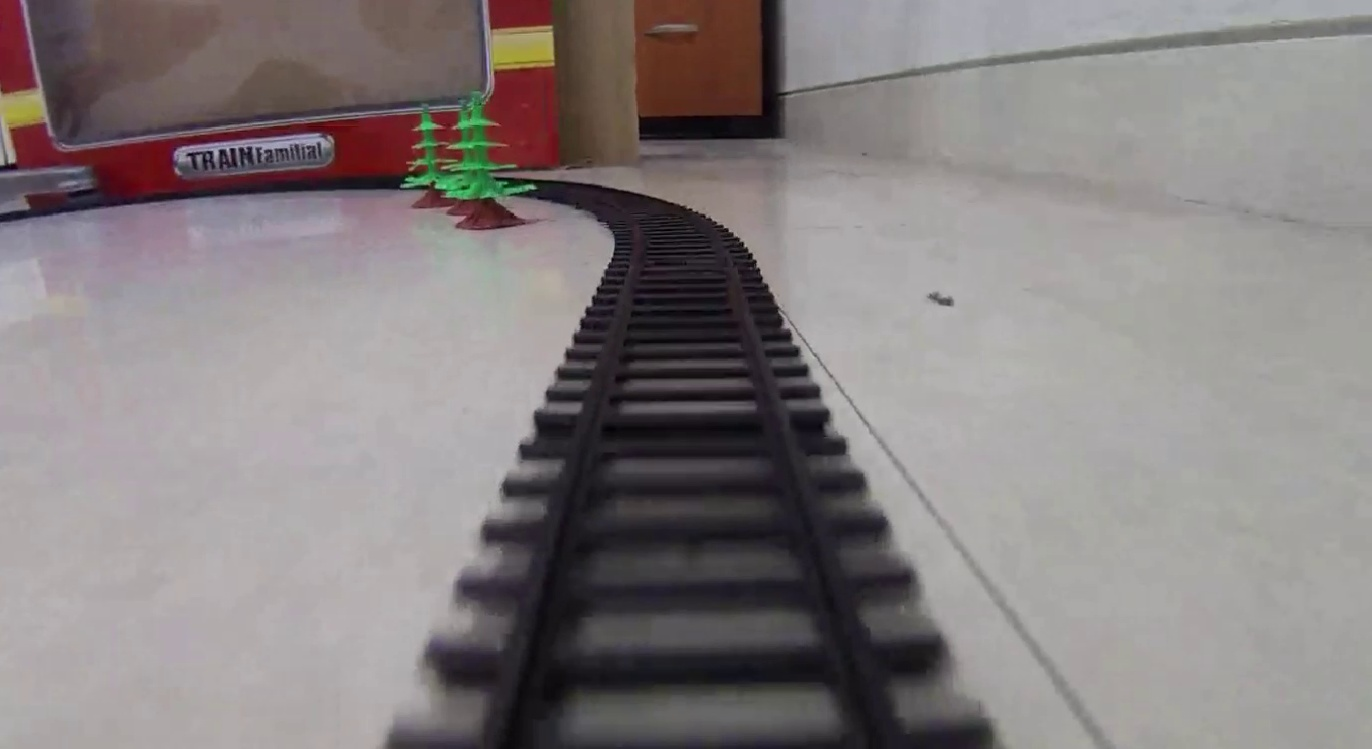tree: (451, 91, 528, 233), (403, 105, 455, 206)
